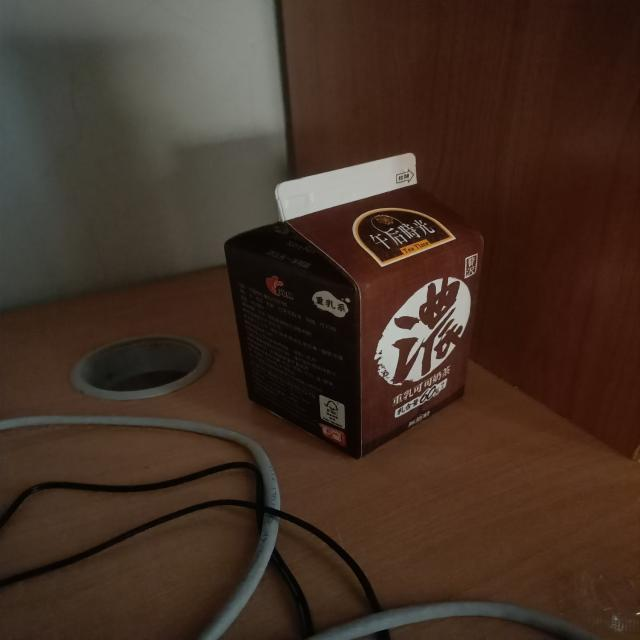Known_ChocoMilkTea: (210, 150, 500, 470)
